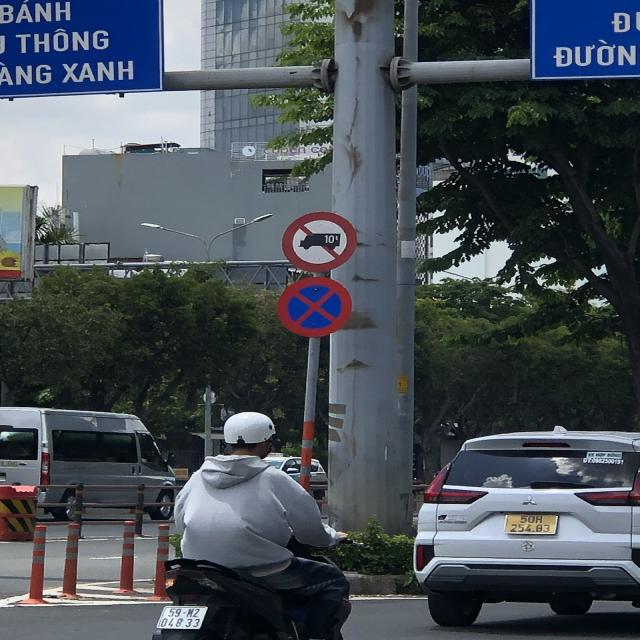Bien bao cam dung xe va do xe: (274, 272, 359, 347)
Bien bao cam xe oto tai: (274, 199, 368, 272)
